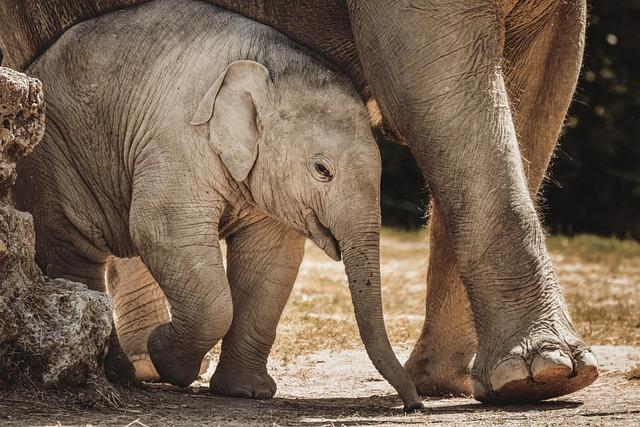Non_Gorille: (17, 7, 606, 427)
